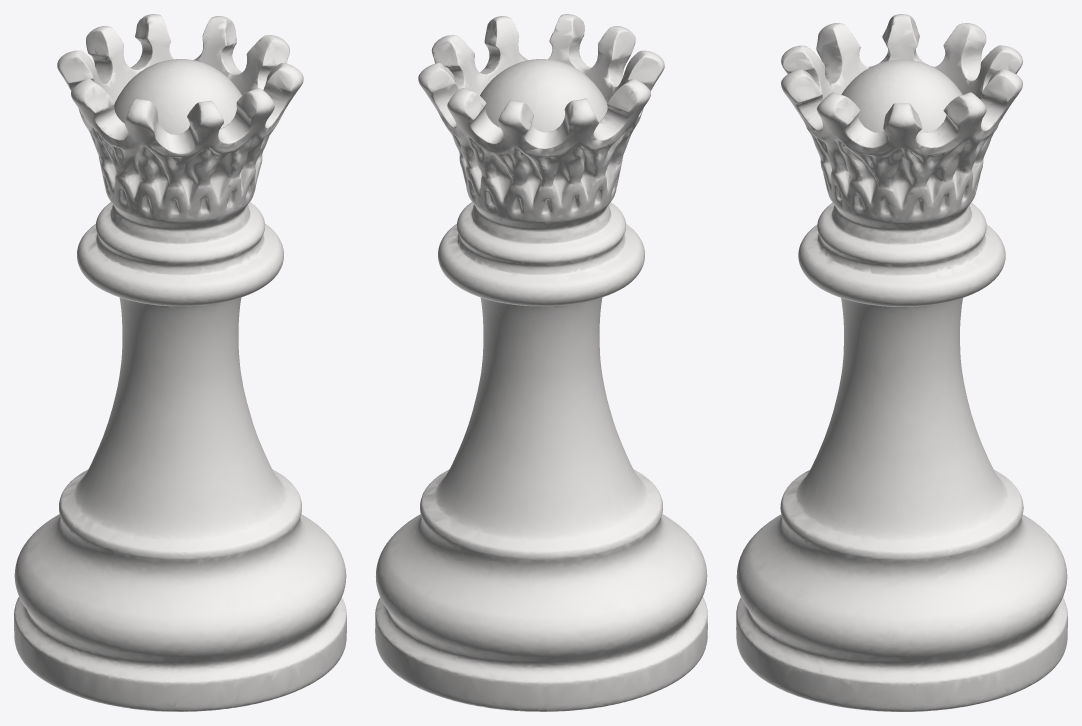
Rendered from queen_high.glb.
3 renders of one model, left to right at view 1: azimuth 30°, elevation 25°; view 2: azimuth 150°, elevation 25°; view 3: azimuth 270°, elevation 25°, orthographic.
Visible parts, largest first — view 1: world; view 2: world; view 3: world.
Boxes of the visible parts, x1,y1,x2,y2 form: world: [14, 14, 346, 711]; world: [375, 14, 707, 711]; world: [736, 14, 1067, 711].
Bounding box in the file's own units: 0.5065 × 0.9858 × 0.5062.
Materials: 1 (1 with a texture image).
